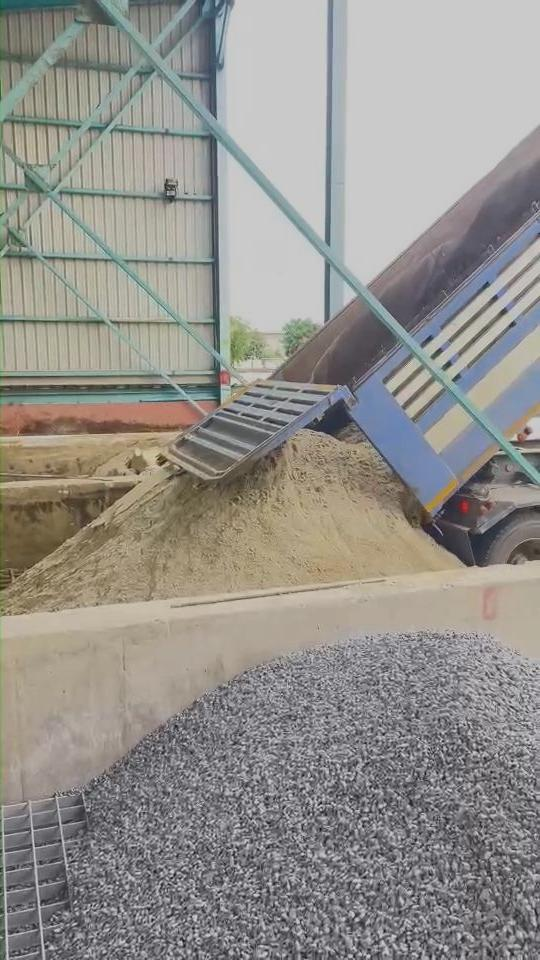gravel: (49, 634, 540, 959)
sand: (3, 422, 458, 613), (92, 444, 162, 477)
